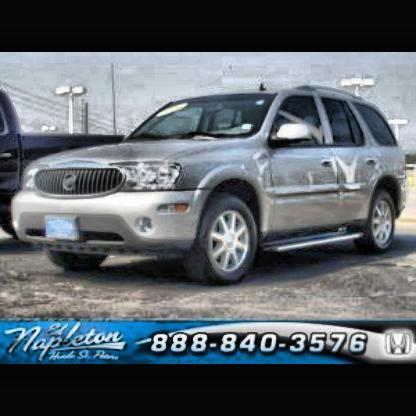Buick Rainier SUV 2007: (12, 85, 411, 284)
